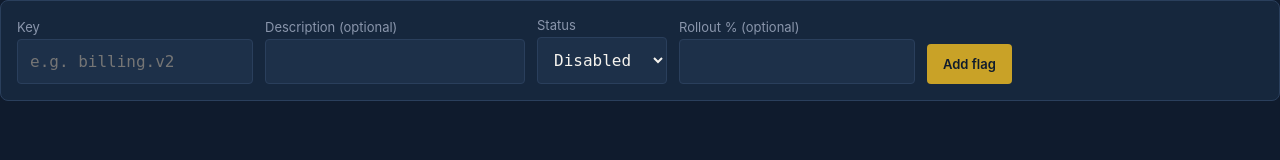
Test case: CreateFeatureFlagForm › falls back to a generic error message when the action fails without one
Step 1. Type "billing.v2" into the field labelled "Key" → (135,62), box [17,39,253,84]
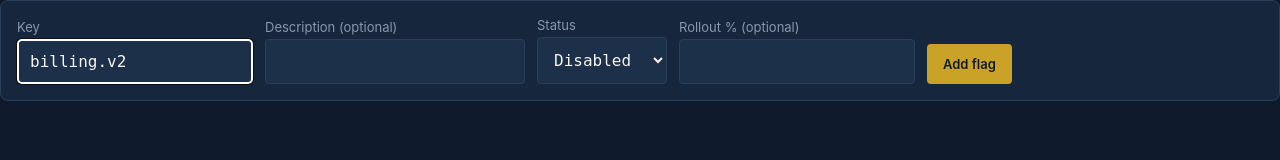
Step 2. Click the button "Add flag" → (969,64), box [927,44,1012,84]
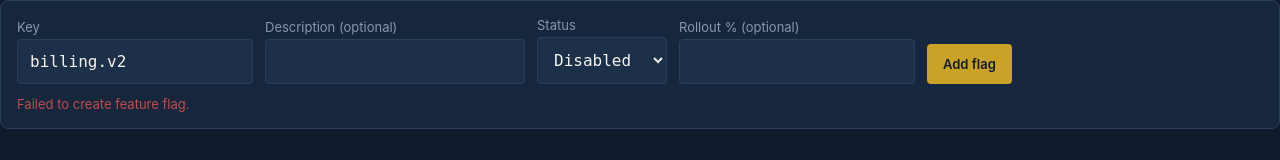
Result: the text "Failed to create feature flag." is shown at [17,96,190,112]
